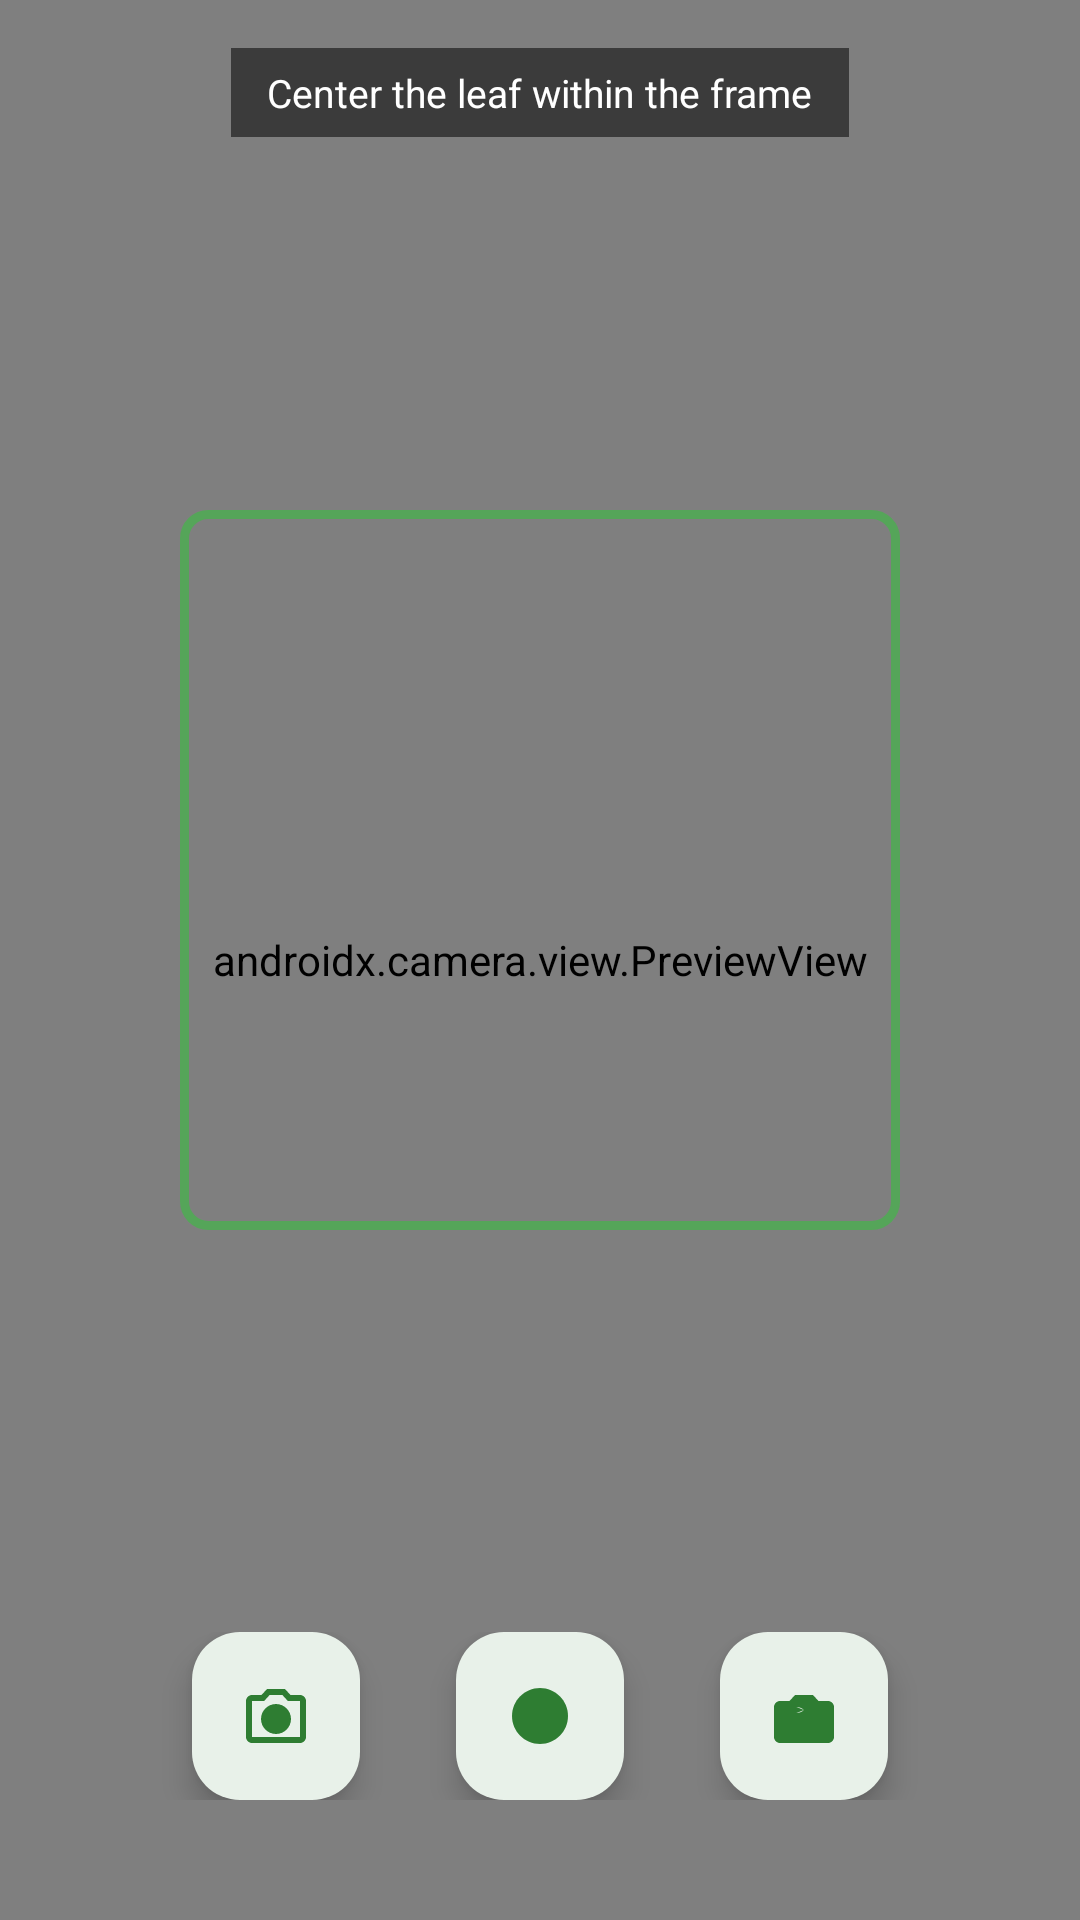

Icons on this 1080*1920 Android screen, each with its box as (x1, y1, x2, y2):
Capture Photo: (456, 1632, 624, 1800)
Flip Camera: (720, 1632, 888, 1800)
